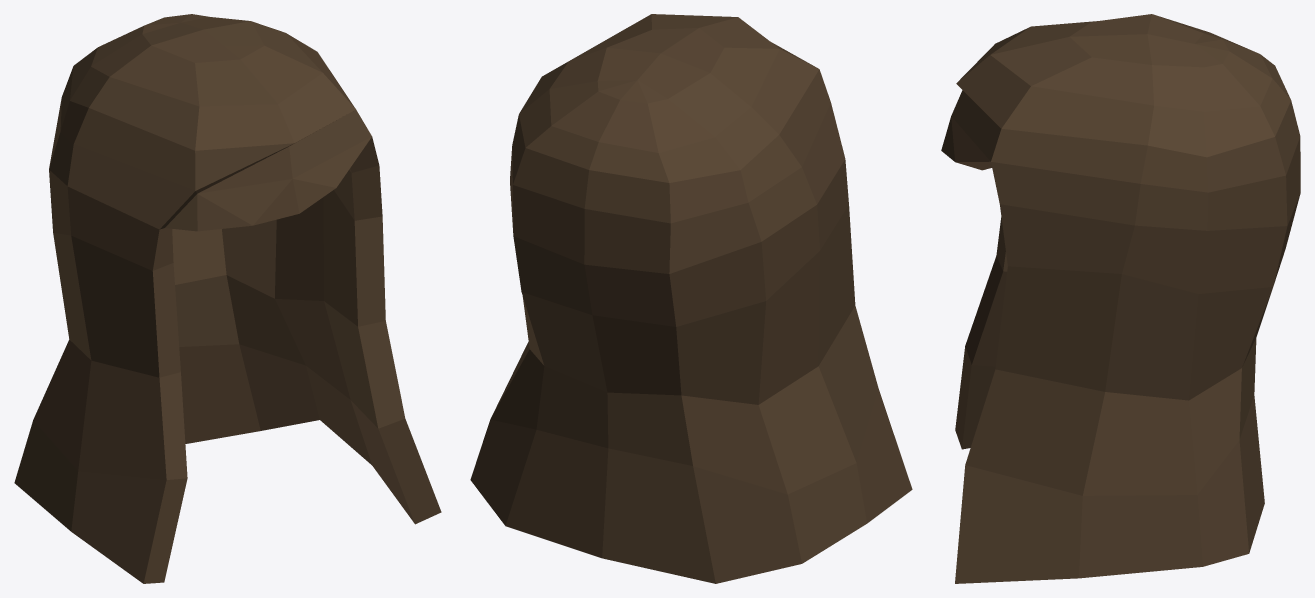
Rendered from Female_Hairstyle_2.glb.
3 views of the same model, side by side, from view 1: azimuth 30°, elevation 25°; view 2: azimuth 150°, elevation 25°; view 3: azimuth 270°, elevation 25° (orthographic). The views are drawn at different scales.
Visible parts, largest first — view 1: Female_Hairstyle_2; view 2: Female_Hairstyle_2; view 3: Female_Hairstyle_2.
Part boxes in pixels (x1,y1,x2,y2): Female_Hairstyle_2: (14, 14, 441, 583); Female_Hairstyle_2: (470, 14, 912, 583); Female_Hairstyle_2: (941, 14, 1300, 583).
Size of the model in its own units: 0.6174 by 0.8284 by 0.5585.
